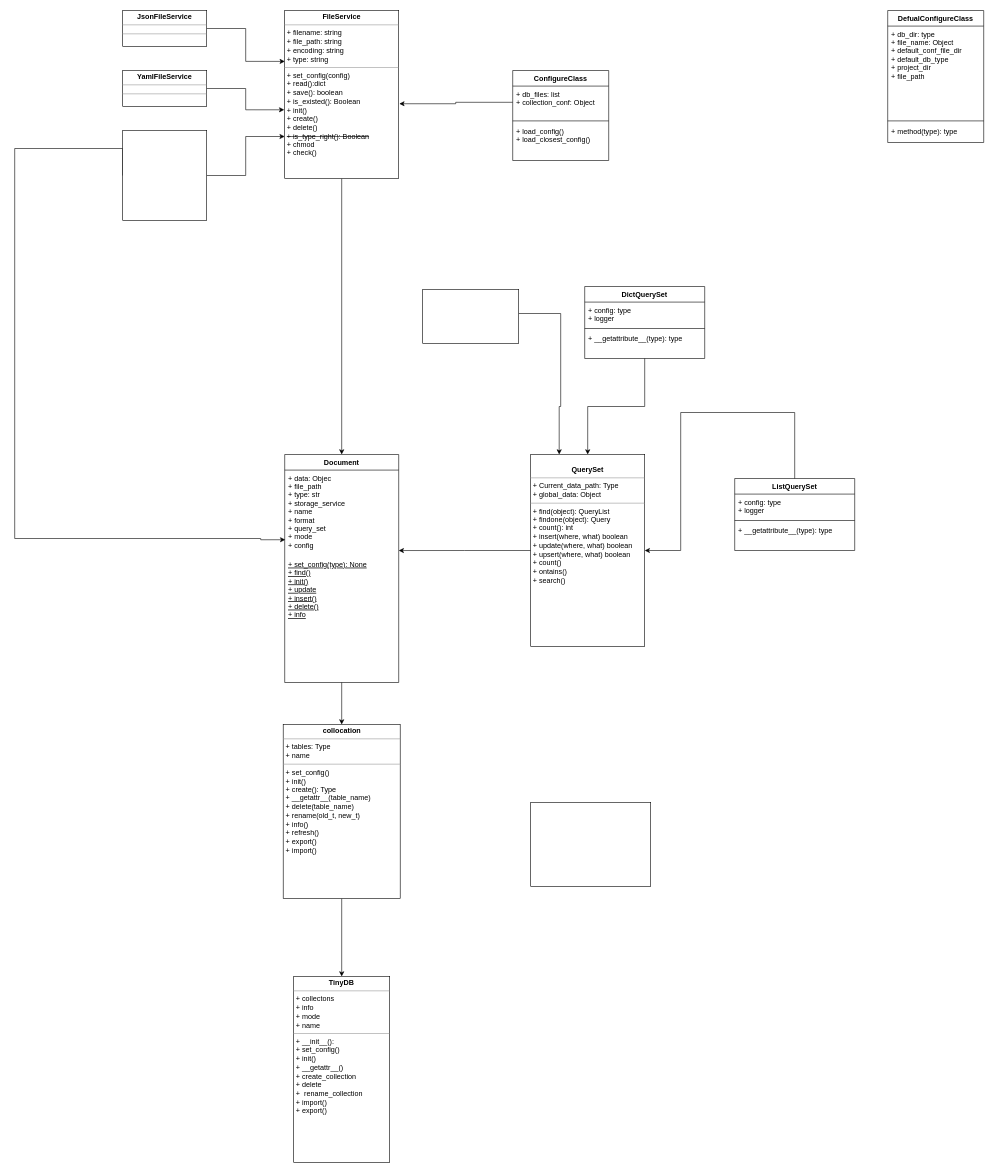
Some shapes in this 994 by 1173 pixel diagram are drawn without their labels. Here are the shapes that lost their labels. From the top down, the centre of each, then its label:
At point 164,175: "XMLFileSerivce".
At point 470,316: "FilterParser + field: Type + init(): Type + next():".
At point 590,844: "Binder + data: Type + reslove_flask(): Type + reslove_django(): Type".
